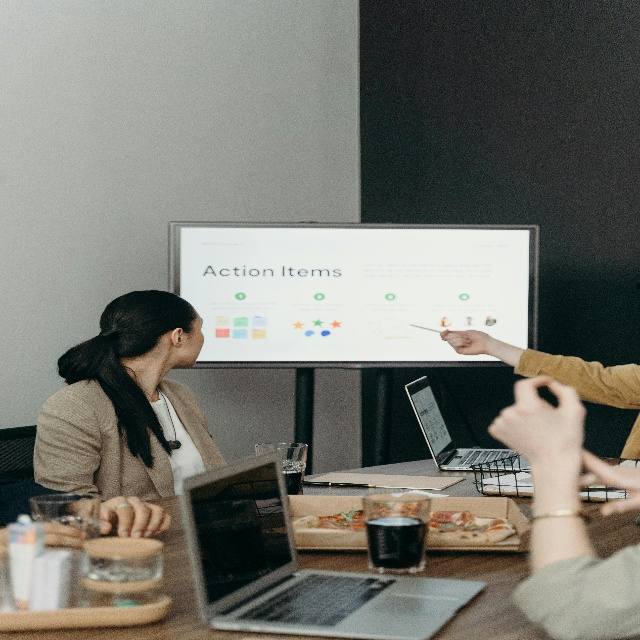Sin_guantes: (485, 373, 588, 474), (99, 499, 171, 540), (440, 326, 484, 356)
